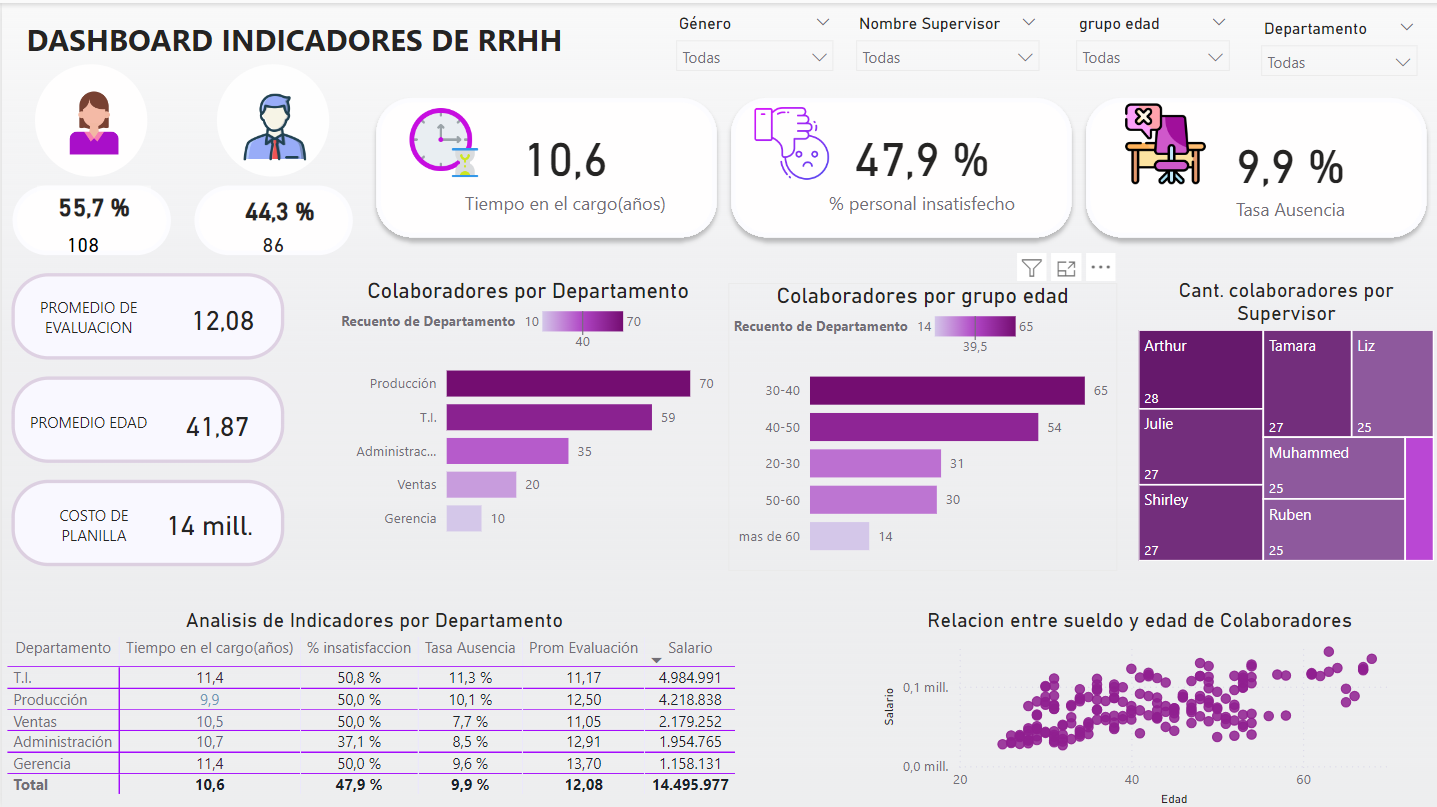

The dashboard page shown, as its layout file describes it:
{"tool":"powerbi","page":{"name":"Página 2","canvas":[1280,720],"ordinal":2},"visuals":[{"type":"card","fields":{"Values":["medidas.total mujeres"]},"box":[31.4,201.5,82,29],"z":0},{"type":"card","fields":{"Values":["medidas.%mujeres"]},"box":[31.4,162.9,101.3,38.6],"z":1000},{"type":"card","fields":{"Values":["medidas.total varones"]},"box":[193,201.5,98.9,29],"z":2000},{"type":"card","fields":{"Values":["medidas.%varones"]},"box":[191.8,146,112.2,79.6],"z":3000},{"type":"card","fields":{"Values":["medidas.Tiempo en el cargo(anos)"]},"box":[389.7,71.2,224.4,149.6],"z":4000},{"type":"card","fields":{"Values":["medidas.% personal insatisfecho"]},"box":[715.4,84.5,207.5,123.1],"z":5000},{"type":"card","fields":{"Values":["medidas.Tasa Ausencia"]},"box":[1061.7,95.3,171.3,112.2],"z":6000},{"type":"card","fields":{"Values":["Avg(colaboradores.Evaluación)"]},"box":[144.8,244.9,103.8,74.8],"z":7000},{"type":"card","fields":{"Values":["Avg(colaboradores.Edad)"]},"box":[143.6,352.3,96.5,49.5],"z":8000},{"type":"card","fields":{"Values":["Sum(colaboradores.Salario)"]},"box":[126.7,427.1,115.8,74.8],"z":9000},{"type":"image","box":[25.3,71.2,112.2,71.2],"z":10000},{"type":"image","box":[187,71.2,112.2,78.4],"z":11000},{"type":"image","box":[336.6,84.5,113.4,78.4],"z":12000},{"type":"image","box":[639.4,84.5,129.1,80.8],"z":13000},{"type":"image","box":[992.9,84.5,85.7,82],"z":14000},{"type":"textbox","box":[8.4,359.5,136.3,36.2],"z":15000},{"type":"textbox","box":[0,257,154.4,51.9],"z":16000},{"type":"textbox","box":[16.9,441.6,130.3,47.1],"z":17000},{"type":"clusteredBarChart","title":"Colaboradores por Departamento","fields":{"Category":["colaboradores.Departamento"],"Y":["medidas.Total colaboradores"]},"box":[296.8,244.9,342.6,243.7],"z":18000},{"type":"clusteredBarChart","title":"Colaboradores por grupo edad","fields":{"Y":["medidas.Total colaboradores"],"Category":["colaboradores.grupo edad"]},"box":[646.7,249.7,346.2,257],"z":19000},{"type":"treemap","title":"Cant.  colaboradores por  Supervisor","fields":{"Group":["colaboradores.Nombre Supervisor"],"Values":["medidas.Total colaboradores"]},"box":[1007.4,244.9,272.7,257],"z":20000},{"type":"pivotTable","title":"Analisis de Indicadores por Departamento","fields":{"Rows":["colaboradores.Departamento"],"Values":["medidas.Tiempo en el cargo(años)","medidas.% personal insatisfecho","medidas.Tasa Ausencia","Avg(colaboradores.Evaluación)","Sum(colaboradores.Salario)"]},"box":[0,539.3,663.5,181],"z":21000},{"type":"scatterChart","title":"Relacion entre sueldo y edad de Colaboradores","fields":{"Category":["colaboradores.Nombre Empleado"],"X":["Sum(colaboradores.Edad)"],"Y":["Sum(colaboradores.Salario)"]},"box":[779.4,539.3,468.1,181],"z":22000},{"type":"slicer","fields":{"Values":["colaboradores.Género"]},"box":[589.9,4.8,160.5,66.4],"z":23000},{"type":"slicer","fields":{"Values":["colaboradores.grupo edad"]},"box":[945.8,4.8,156.8,71.2],"z":24000},{"type":"slicer","fields":{"Values":["colaboradores.Nombre Supervisor"]},"box":[750.4,4.8,183.4,66.4],"z":25000},{"type":"slicer","fields":{"Values":["colaboradores.Departamento"]},"box":[1111.1,8.4,159.3,62.7],"z":26000},{"type":"textbox","box":[16.9,8.4,526,49.5],"z":27000}]}

Visuals, with their boxes in screenshot pixels (x1, y1, x2, y2), scaled from the page's 1280x720 canvas onto the 1437x807 screenshot:
card - medidas.total mujeres: box=[35, 226, 127, 258]
card - medidas.%mujeres: box=[35, 183, 149, 226]
card - medidas.total varones: box=[217, 226, 328, 258]
card - medidas.%varones: box=[215, 164, 341, 253]
card - medidas.Tiempo en el cargo(anos): box=[437, 80, 689, 247]
card - medidas.% personal insatisfecho: box=[803, 95, 1036, 233]
card - medidas.Tasa Ausencia: box=[1192, 107, 1384, 233]
card - Avg(colaboradores.Evaluación): box=[163, 274, 279, 358]
card - Avg(colaboradores.Edad): box=[161, 395, 270, 450]
card - Sum(colaboradores.Salario): box=[142, 479, 272, 563]
image: box=[28, 80, 154, 160]
image: box=[210, 80, 336, 168]
image: box=[378, 95, 505, 183]
image: box=[718, 95, 863, 185]
image: box=[1115, 95, 1211, 187]
textbox: box=[9, 403, 162, 444]
textbox: box=[0, 288, 173, 346]
textbox: box=[19, 495, 165, 548]
"Colaboradores por Departamento" clusteredBarChart: box=[333, 274, 718, 548]
"Colaboradores por grupo edad" clusteredBarChart: box=[726, 280, 1115, 568]
"Cant.  colaboradores por  Supervisor" treemap: box=[1131, 274, 1436, 563]
"Analisis de Indicadores por Departamento" pivotTable: box=[0, 604, 745, 806]
"Relacion entre sueldo y edad de Colaboradores" scatterChart: box=[875, 604, 1401, 806]
slicer - colaboradores.Género: box=[662, 5, 842, 80]
slicer - colaboradores.grupo edad: box=[1062, 5, 1238, 85]
slicer - colaboradores.Nombre Supervisor: box=[842, 5, 1048, 80]
slicer - colaboradores.Departamento: box=[1247, 9, 1426, 80]
textbox: box=[19, 9, 609, 65]
